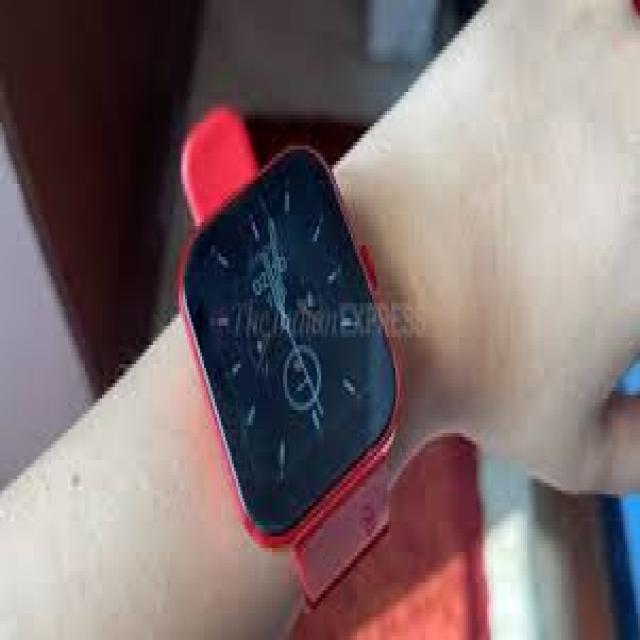objects: (175, 95, 402, 602)
